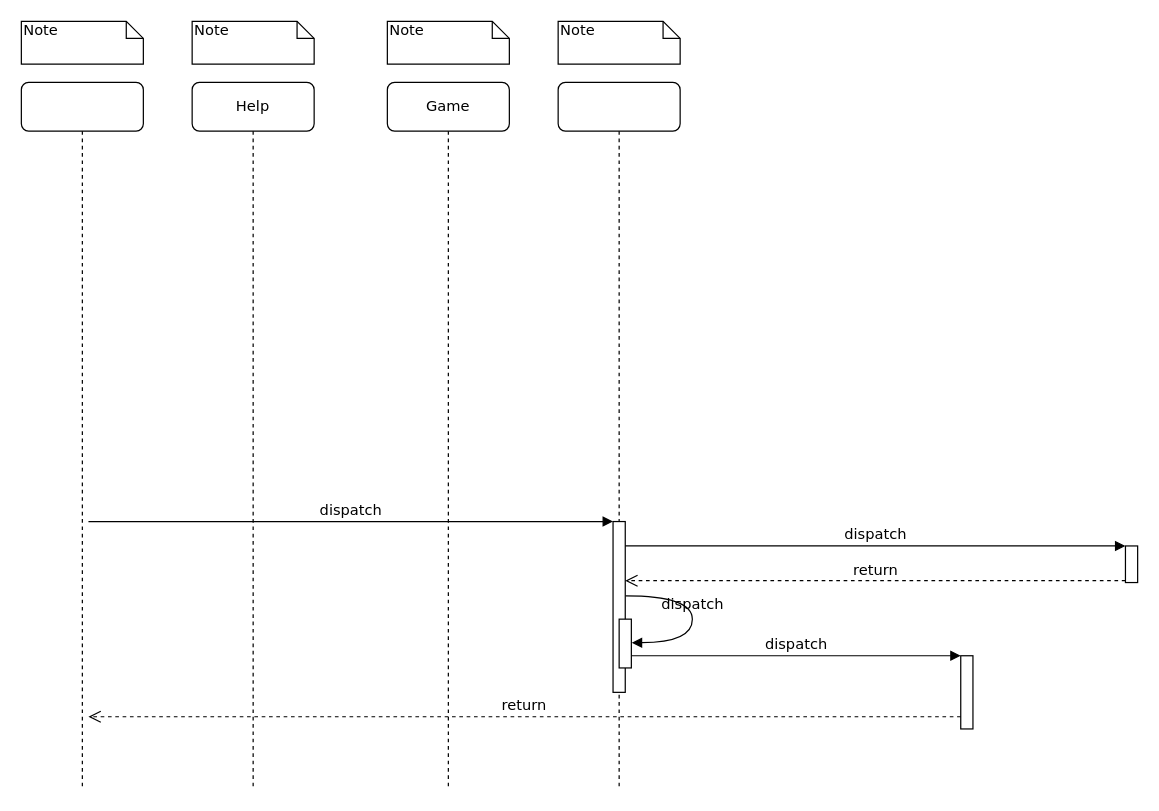
Some shapes in this 1159 by 811 pixel diagram are drawn without their labels. The shapes that lost their labels are listed below. From the top down, each one's box as (x1, y1, x2, y2) in pixels, then its label:
(20, 81, 143, 790): Title screen
(557, 81, 680, 790): Result
